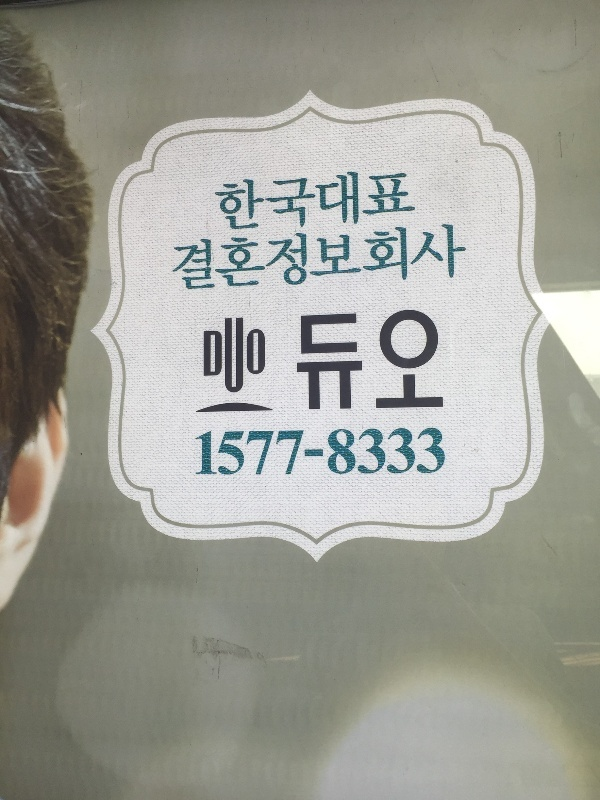text: (385, 308, 400, 410), (401, 308, 416, 410), (417, 308, 432, 410), (305, 312, 320, 411), (321, 312, 336, 411), (337, 312, 352, 411), (209, 317, 224, 415), (225, 317, 240, 415), (241, 317, 256, 415), (257, 317, 272, 415), (353, 312, 366, 411), (433, 308, 445, 410), (177, 222, 192, 292), (193, 222, 208, 292), (209, 222, 224, 292), (225, 222, 240, 292), (241, 222, 256, 292), (257, 222, 272, 292), (273, 222, 288, 292), (289, 222, 304, 292), (305, 222, 320, 292), (321, 222, 336, 292), (337, 222, 352, 292), (353, 222, 368, 292), (369, 222, 384, 292), (385, 222, 400, 292), (401, 222, 416, 292), (417, 222, 432, 292), (433, 222, 448, 292), (449, 222, 464, 292), (225, 167, 240, 235), (241, 167, 256, 235), (257, 167, 272, 235), (273, 167, 288, 235), (289, 167, 304, 235), (305, 167, 320, 235), (321, 167, 336, 235), (337, 167, 352, 235), (353, 167, 368, 235), (369, 167, 384, 235), (385, 167, 400, 235), (401, 167, 416, 235), (209, 425, 224, 479), (225, 425, 240, 479), (241, 425, 256, 479), (257, 425, 272, 479), (273, 425, 288, 479), (289, 425, 304, 479), (305, 425, 320, 479), (321, 425, 336, 479), (337, 425, 352, 479), (353, 425, 368, 479), (369, 425, 384, 479), (385, 425, 400, 479), (401, 425, 416, 479), (417, 425, 432, 479), (433, 425, 448, 479), (297, 312, 304, 411), (214, 167, 224, 235), (197, 425, 208, 479), (205, 317, 208, 415), (382, 308, 384, 410), (174, 222, 176, 292), (465, 222, 467, 292), (273, 317, 274, 415), (417, 167, 418, 235)
